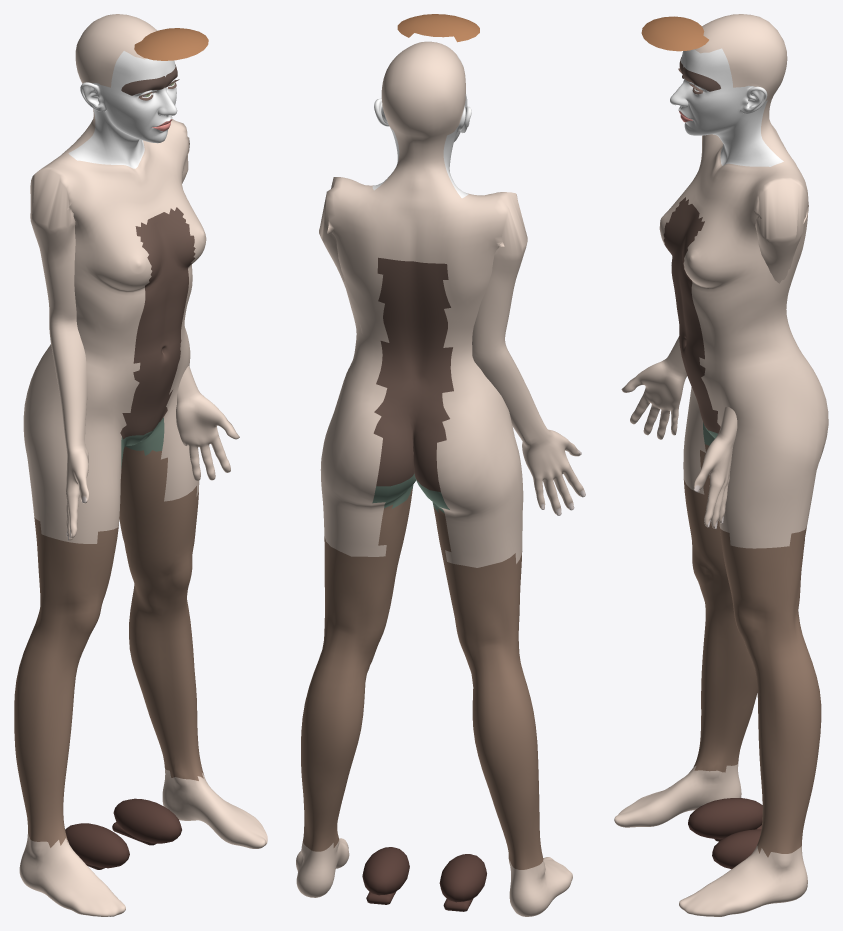
The model's file is hm_ped_ivy_v16.glb.
3 views of the same model, side by side, from view 1: azimuth 30°, elevation 25°; view 2: azimuth 150°, elevation 25°; view 3: azimuth 270°, elevation 25° (orthographic).
Visible parts, largest first — view 1: hm_ped_ivy; view 2: hm_ped_ivy; view 3: hm_ped_ivy.
Boxes of the visible parts, x1=… form: hm_ped_ivy: x1=14, y1=14, x2=267, y2=916; hm_ped_ivy: x1=296, y1=14, x2=585, y2=916; hm_ped_ivy: x1=614, y1=14, x2=828, y2=916.
Bounding box in the file's own units: 0.4918 × 1.66 × 0.384.
